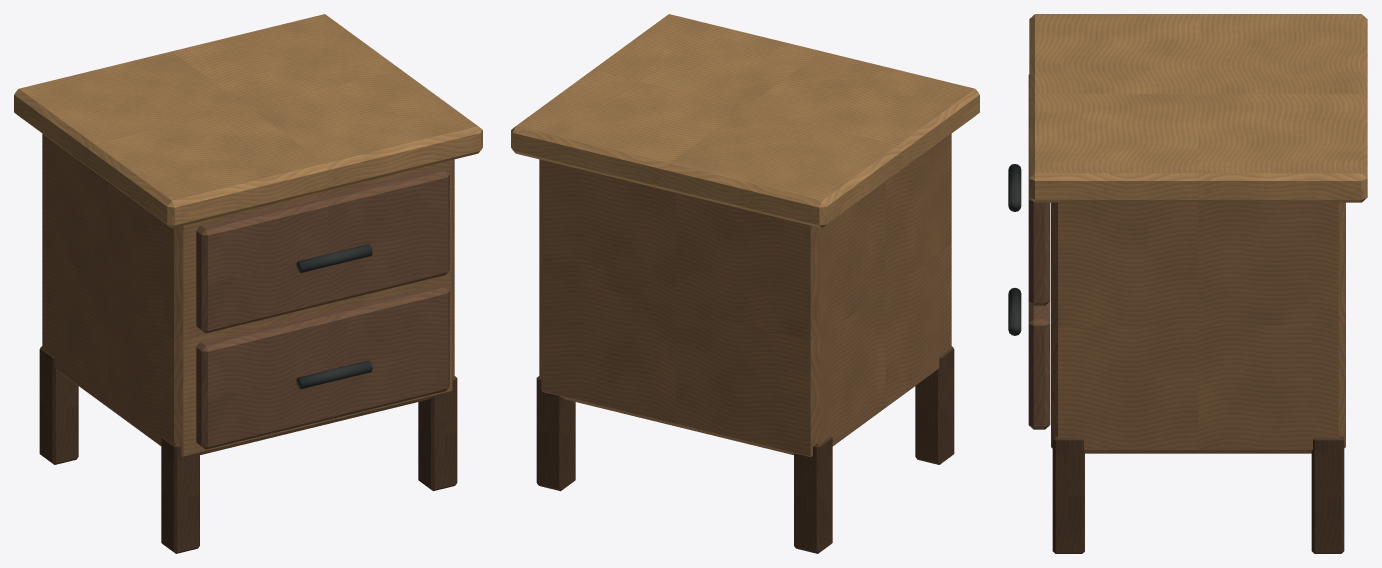
Rendered from nightstand.glb.
3 renders of one model, left to right at view 1: azimuth 30°, elevation 25°; view 2: azimuth 150°, elevation 25°; view 3: azimuth 270°, elevation 25°, orthographic. The views are drawn at different scales.
Visible parts, largest first — view 1: nightstand_Mesh; view 2: nightstand_Mesh; view 3: nightstand_Mesh.
Boxes of the visible parts, x1,y1,x2,y2 form: nightstand_Mesh: (14,14,482,553); nightstand_Mesh: (511,14,979,553); nightstand_Mesh: (1008,14,1367,553).
Bounding box in the file's own units: 0.54 × 0.5945 × 0.499.
5 materials, 5 textured.
